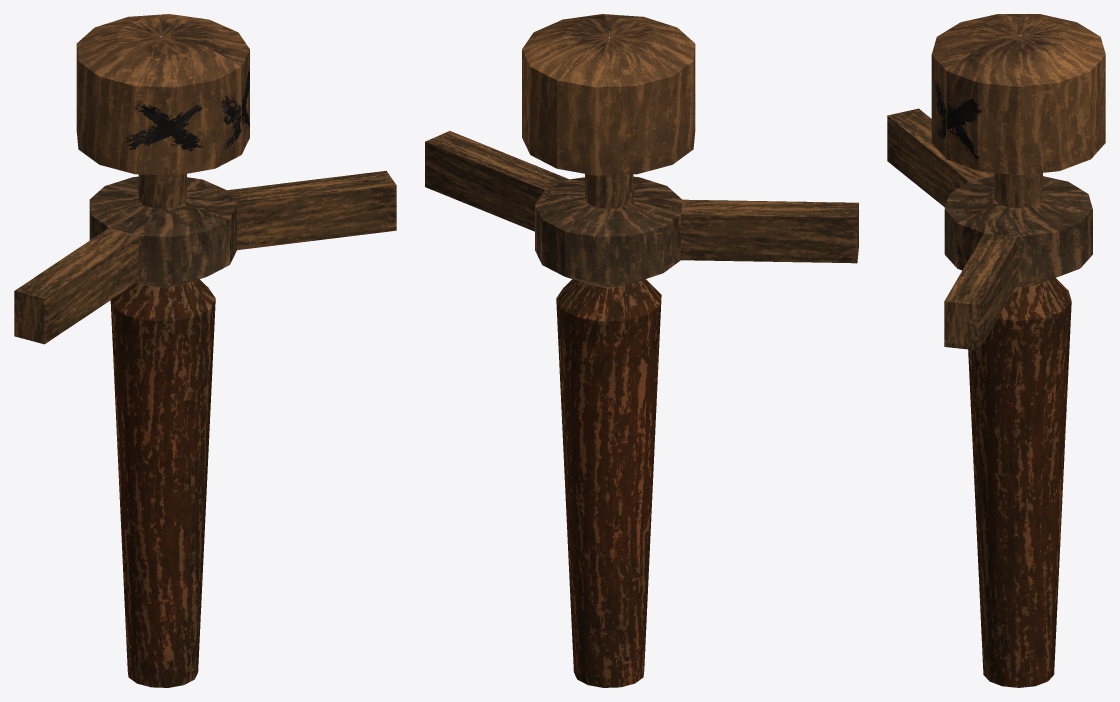
File: training dummy.fbx
3 views of the same model, side by side, from view 1: azimuth 30°, elevation 25°; view 2: azimuth 150°, elevation 25°; view 3: azimuth 270°, elevation 25° (orthographic).
Parts seen in each view (by area): view 1: training_dummy; view 2: training_dummy; view 3: training_dummy.
Part boxes in pixels (x1=…): training_dummy: x1=14, y1=14, x2=396, y2=687; training_dummy: x1=425, y1=14, x2=858, y2=687; training_dummy: x1=887, y1=14, x2=1105, y2=687.
Size of the model in its own units: 14.94 by 22.58 by 7.02.
